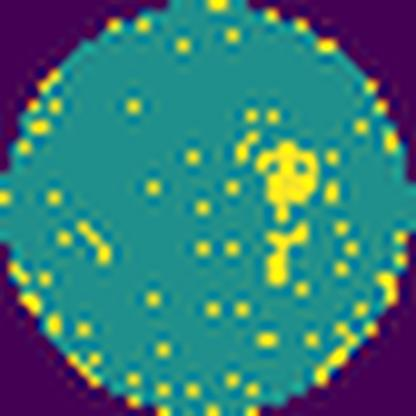Loc: (256, 138, 318, 218), (261, 224, 313, 285)
